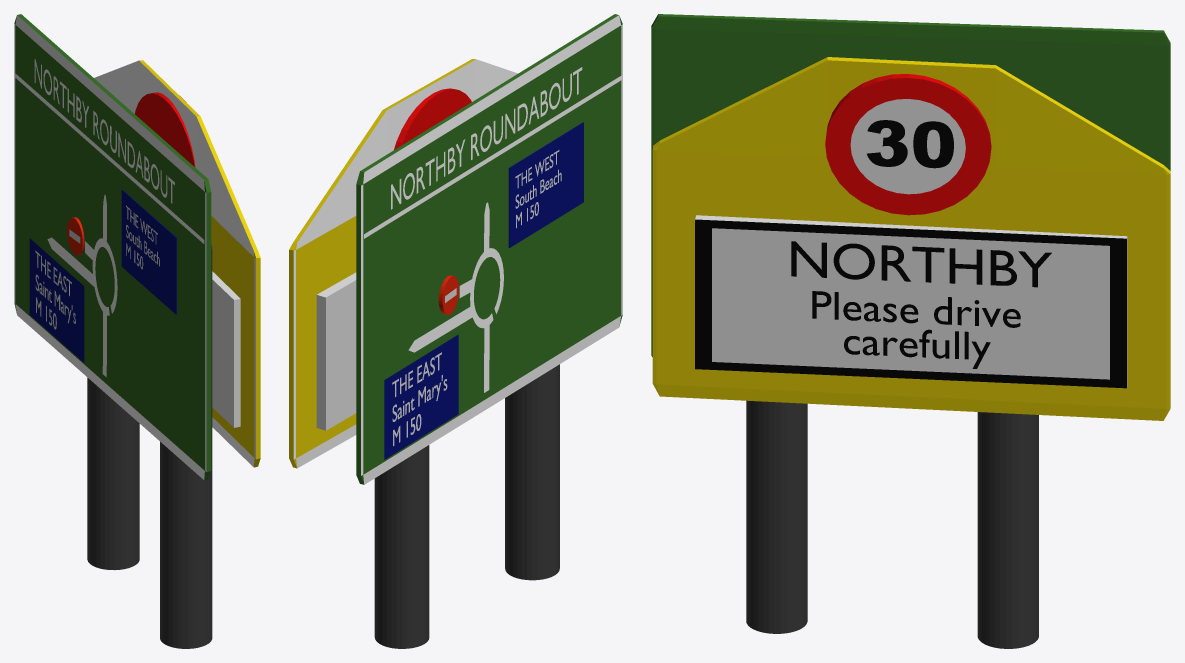
Rendered from RoundaboutSignNorthbyRoundabout3.fbx.
3 views of the same model, side by side, from view 1: azimuth 30°, elevation 25°; view 2: azimuth 150°, elevation 25°; view 3: azimuth 270°, elevation 25° (orthographic). The views are drawn at different scales.
Parts seen in each view (by area): view 1: Cube.030, Cube.002, Cylinder.001, Cylinder.002, Cube.003, Cube.001, Cube.004, Cylinder.003, STMRoundabout, DashedLine, Motorway, Motorway.001 (+3 smaller); view 2: Cube.030, Cube.002, Cylinder.001, Cylinder.002, Cube.003, Cube.004, Cube.001, STMRoundabout, Cylinder.003, DashedLine, Motorway, RoundelM (+3 smaller); view 3: Cube.002, Cube.004, Cube.030, Cylinder.003, Cylinder.002, Cylinder.001, Text.001, Text, Text.002, Text.003.
Part boxes in pixels (x1=…): Cube.030: x1=14, y1=14, x2=211, y2=480; Cube.002: x1=94, y1=60, x2=260, y2=467; Cylinder.001: x1=160, y1=244, x2=212, y2=648; Cylinder.002: x1=87, y1=377, x2=139, y2=570; Cube.003: x1=121, y1=189, x2=176, y2=314; Cube.001: x1=29, y1=238, x2=84, y2=362; Cube.004: x1=212, y1=271, x2=240, y2=427; Cylinder.003: x1=135, y1=92, x2=195, y2=166; STMRoundabout: x1=34, y1=59, x2=174, y2=203; DashedLine: x1=14, y1=73, x2=204, y2=243; Motorway: x1=35, y1=250, x2=75, y2=329; Motorway.001: x1=126, y1=205, x2=159, y2=269; Cube.030: x1=356, y1=14, x2=622, y2=484; Cube.002: x1=289, y1=59, x2=517, y2=468; Cylinder.001: x1=505, y1=364, x2=559, y2=580; Cylinder.002: x1=374, y1=445, x2=429, y2=648; Cube.003: x1=508, y1=122, x2=583, y2=247; Cube.004: x1=316, y1=272, x2=356, y2=430; Cube.001: x1=384, y1=334, x2=458, y2=459; STMRoundabout: x1=391, y1=67, x2=582, y2=209; Cylinder.003: x1=394, y1=88, x2=471, y2=149; DashedLine: x1=364, y1=75, x2=621, y2=238; Motorway: x1=392, y1=352, x2=447, y2=446; RoundelM: x1=470, y1=248, x2=503, y2=328; Cube.002: x1=652, y1=57, x2=1170, y2=420; Cube.004: x1=695, y1=215, x2=1127, y2=388; Cube.030: x1=651, y1=14, x2=1170, y2=356; Cylinder.003: x1=825, y1=74, x2=991, y2=215; Cylinder.002: x1=977, y1=412, x2=1038, y2=648; Cylinder.001: x1=746, y1=400, x2=807, y2=633; Text.001: x1=791, y1=241, x2=1051, y2=287; Text: x1=867, y1=120, x2=953, y2=168; Text.002: x1=812, y1=291, x2=1020, y2=327; Text.003: x1=844, y1=329, x2=990, y2=368.
Size of the model in its own units: 140 by 670 by 536.
